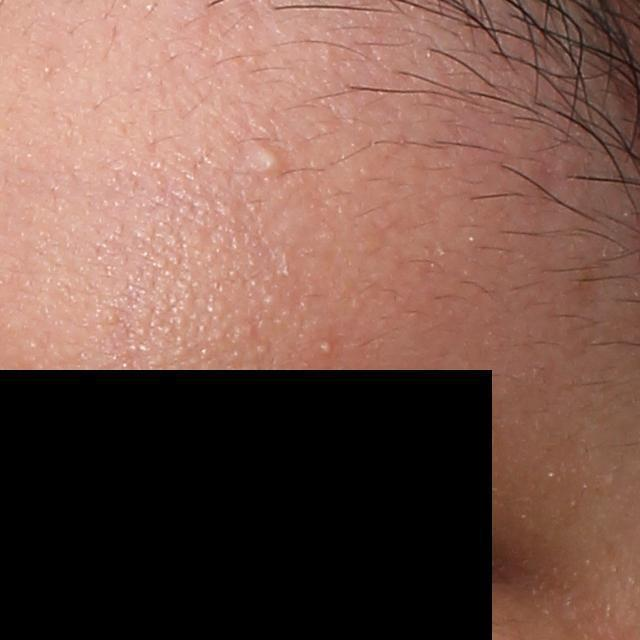comedo: (250, 145, 282, 175)
